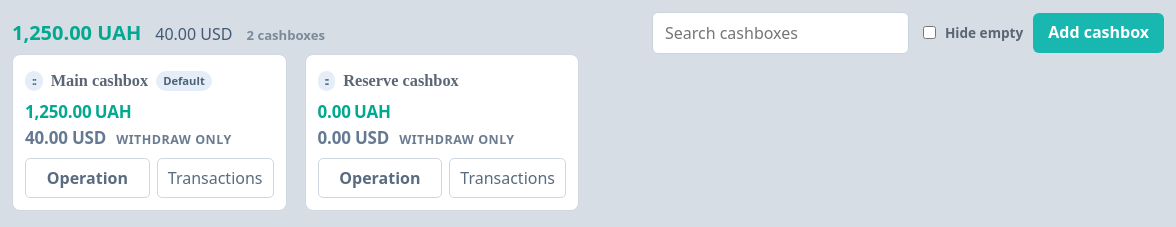
it: AccountingCashboxesView › keeps hide-empty working when localStorage writes fail
Click the checkbox labelled "Hide empty": click(929, 33) [923,26,936,40]
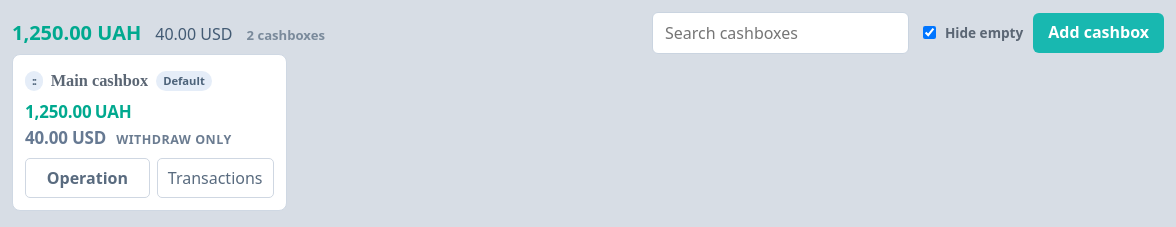
Check: the checkbox labelled "Hide empty" is checked, box [923,26,936,40]
Check: the heading titled "Reserve cashbox" is gone
